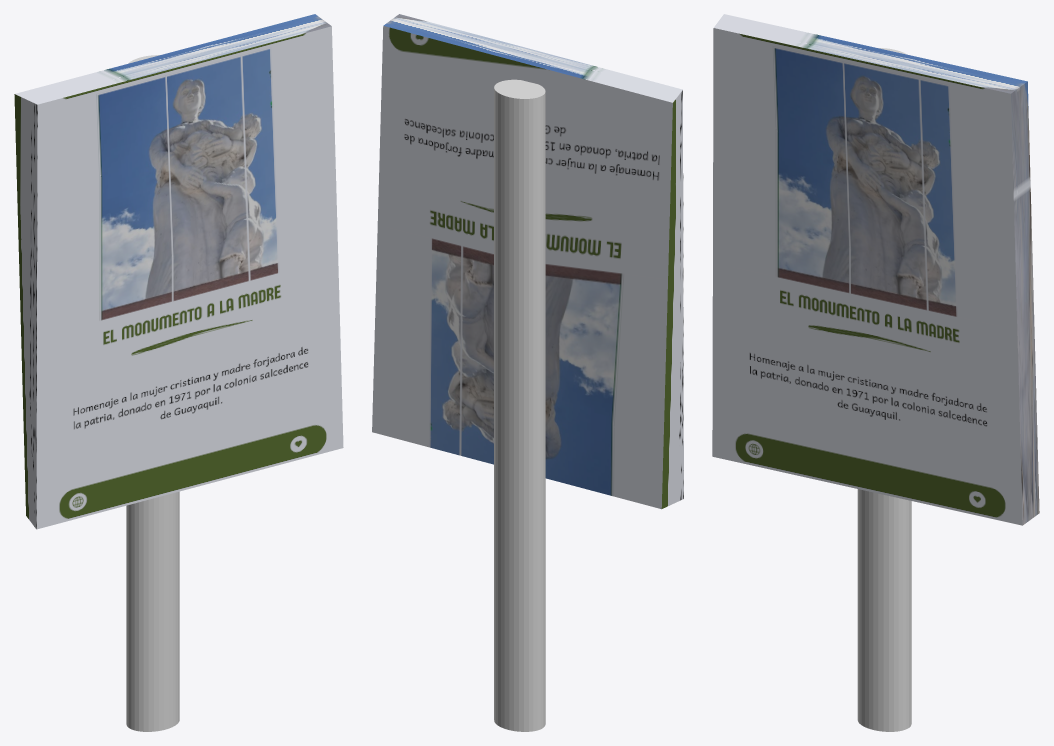
Rendered from Cartel_Monumento_Madre.glb.
The picture shows the model from 3 angles, left to right: view 1: azimuth 30°, elevation 25°; view 2: azimuth 150°, elevation 25°; view 3: azimuth 330°, elevation 25°; orthographic projection. The views are drawn at different scales.
Visible parts, largest first — view 1: Cubo, Cilindro; view 2: Cubo, Cilindro; view 3: Cubo, Cilindro.
Part boxes in pixels (x1,y1,x2,y2): Cubo: (14, 14, 343, 529); Cilindro: (126, 55, 179, 731); Cubo: (372, 14, 683, 509); Cilindro: (494, 79, 545, 731); Cubo: (712, 14, 1039, 525); Cilindro: (857, 48, 911, 731).
Bounding box in the file's own units: 0.8639 × 1.79 × 0.1819.
1 material, 1 textured.
